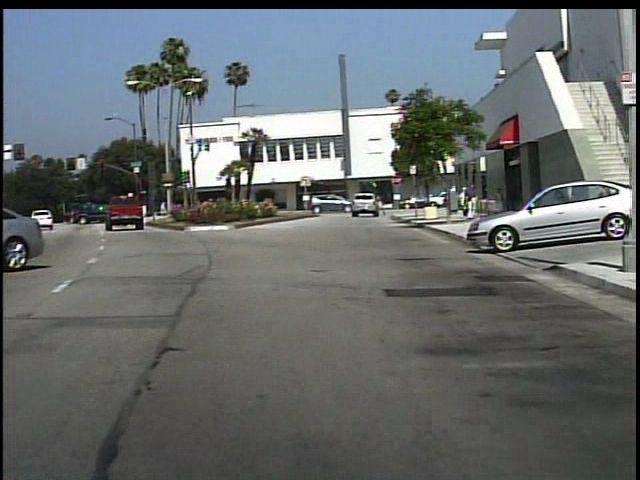person: (466, 183, 481, 223), (490, 185, 507, 218), (458, 185, 470, 218), (380, 192, 381, 221)
